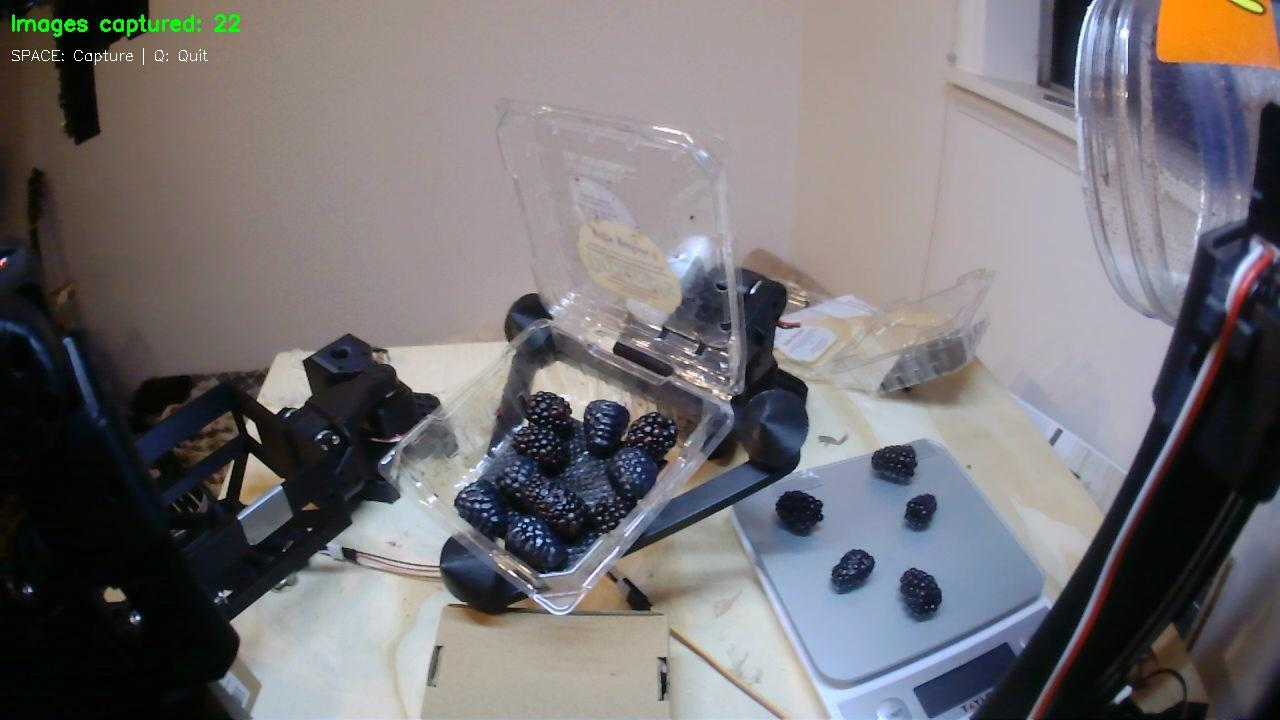berry: (519, 477, 586, 540), (506, 513, 565, 570), (455, 480, 508, 537), (495, 455, 547, 511), (607, 447, 658, 499), (584, 399, 629, 457), (513, 424, 566, 473), (623, 412, 675, 461), (775, 491, 823, 534), (899, 568, 941, 617), (525, 391, 571, 434), (586, 493, 635, 531), (831, 549, 874, 592), (871, 445, 916, 480), (905, 493, 936, 529)
